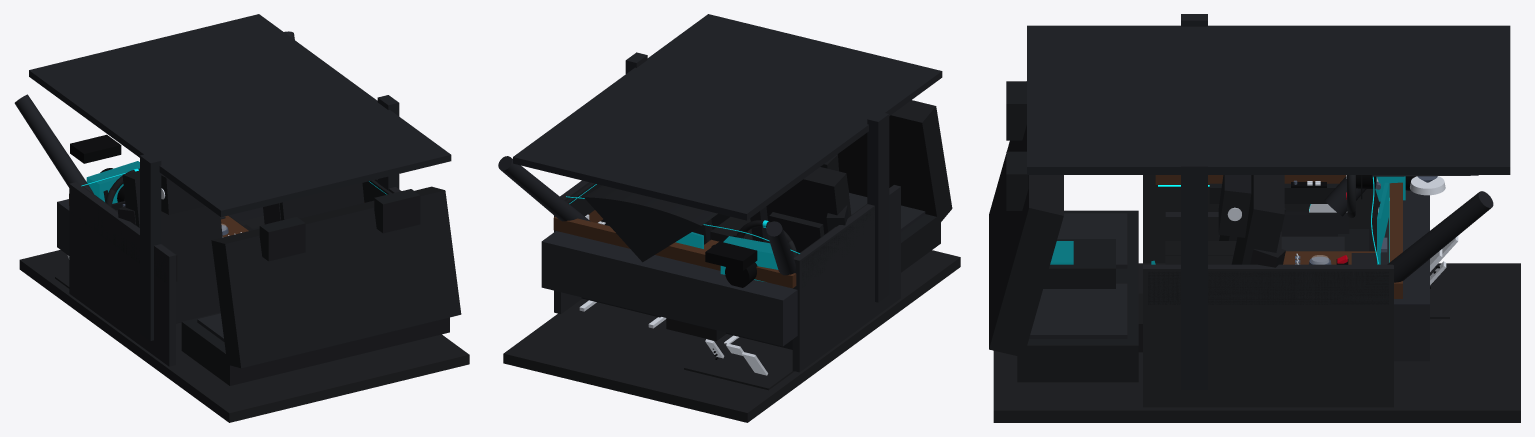
The model's file is cockpit_luxury_executive.glb.
3 views of the same model, side by side, from view 1: azimuth 30°, elevation 25°; view 2: azimuth 150°, elevation 25°; view 3: azimuth 270°, elevation 25° (orthographic). The views are drawn at different scales.
Visible parts, largest first — view 1: Cabin_OverheadHeadliner, Rear_VIP_Lounge_Bench, Cabin_FloorTub, Door_BackingShell, Seat_Backrest_StructuralShell (×2), B_Pillar_Left, A_Pillar_Left, HUD_Projection_Cavity, Seat_Headrest, Driver_Instrument_Cluster_Screen, LowerDashboard_BolsterKneePads, B_Pillar_Right; view 2: Cabin_OverheadHeadliner, Cabin_FloorTub, LowerDashboard_BolsterKneePads, Door_BackingShell (×2), Rear_VIP_Lounge_Bench, UpperDashboard_Brow, B_Pillar_Left, Driver_TuftedFootwellMat, Seat_Backrest_StructuralShell, Dashboard_MidDecorativeBlade, A_Pillar_Right, Door_UpperLeatherSill (×2) (+8 smaller); view 3: Cabin_OverheadHeadliner, Door_BackingShell (×2), Cabin_FloorTub, Rear_VIP_Lounge_Bench, Door_UpperLeatherSill, B_Pillar_Right, LowerDashboard_BolsterKneePads, Seat_Backrest_StructuralShell, Rear_VIP_CenterArmrest, A_Pillar_Right, DriverSeat_Unit, Seat_Headrest (+12 smaller).
Boxes of the visible parts, x1,y1,x2,y2 form: Cabin_OverheadHeadliner: (29,14,451,217); Rear_VIP_Lounge_Bench: (181,186,461,385); Cabin_FloorTub: (19,216,469,422); Door_BackingShell: (69,182,175,366); Seat_Backrest_StructuralShell (×2): (122,170,364,323); B_Pillar_Left: (140,153,161,340); A_Pillar_Left: (14,94,93,193); HUD_Projection_Cavity: (70,134,121,163); Seat_Headrest: (161,174,204,214); Driver_Instrument_Cluster_Screen: (86,161,139,203); LowerDashboard_BolsterKneePads: (57,199,263,255); B_Pillar_Right: (377,95,399,190); Cabin_OverheadHeadliner: (513,14,942,220); Cabin_FloorTub: (503,250,960,422); LowerDashboard_BolsterKneePads: (541,231,797,346); Door_BackingShell (×2): (554,180,900,372); Rear_VIP_Lounge_Bench: (711,100,952,272); UpperDashboard_Brow: (584,185,717,262); B_Pillar_Left: (867,111,889,302); Driver_TuftedFootwellMat: (684,334,794,390); Seat_Backrest_StructuralShell: (766,167,851,234); Dashboard_MidDecorativeBlade: (553,216,796,288); A_Pillar_Right: (498,156,590,221); Door_UpperLeatherSill (×2): (566,182,874,287); Cabin_OverheadHeadliner: (1027,25,1510,174); Door_BackingShell (×2): (1143,175,1393,407); Cabin_FloorTub: (993,263,1520,422); Rear_VIP_Lounge_Bench: (989,81,1138,382); Door_UpperLeatherSill: (1148,271,1388,304); B_Pillar_Right: (1181,160,1207,389); LowerDashboard_BolsterKneePads: (1380,190,1429,361); Seat_Backrest_StructuralShell: (1231,175,1284,264); Rear_VIP_CenterArmrest: (1043,239,1115,288); A_Pillar_Right: (1387,191,1493,282); DriverSeat_Unit: (1281,211,1349,251); Seat_Headrest: (1218,175,1251,237).
Size of the model in its own units: 1.8 by 1.28 by 2.37.
